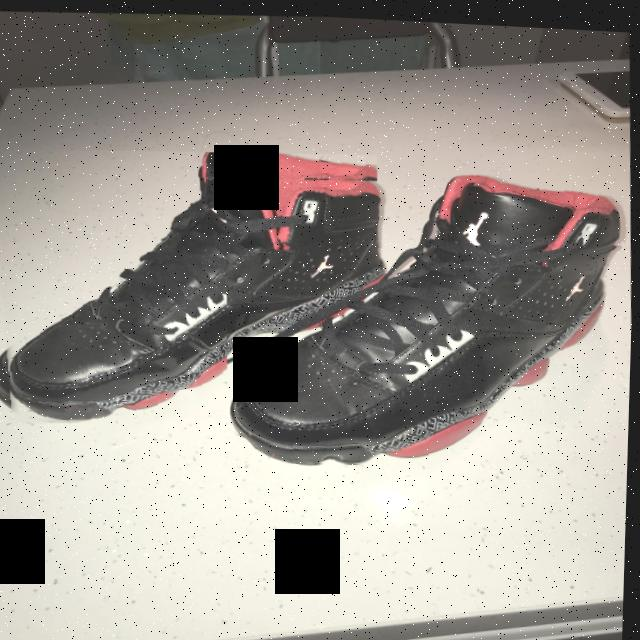shoe: (221, 161, 633, 476), (0, 135, 387, 439)
